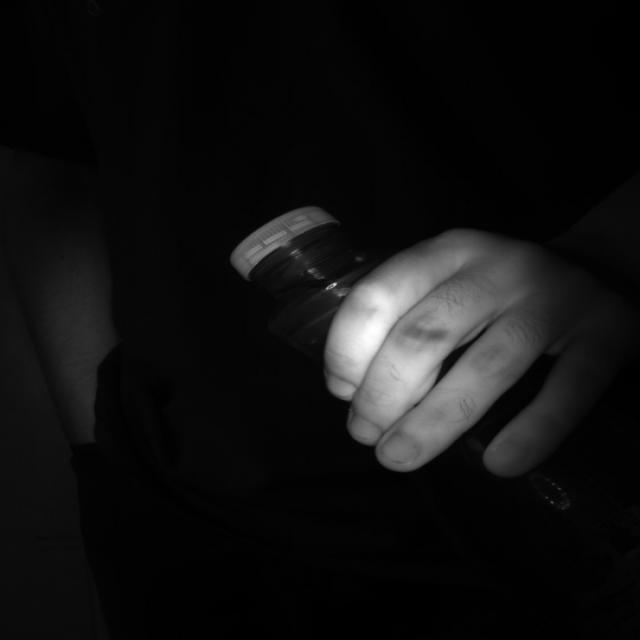Not Good: (231, 203, 339, 287)
